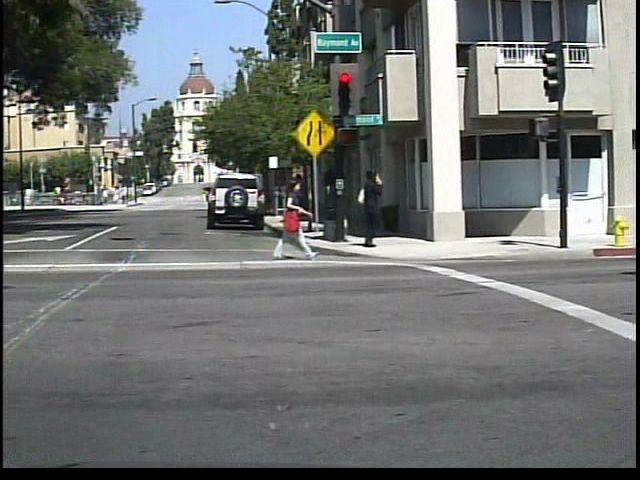person: (273, 175, 318, 262), (356, 163, 397, 249)
